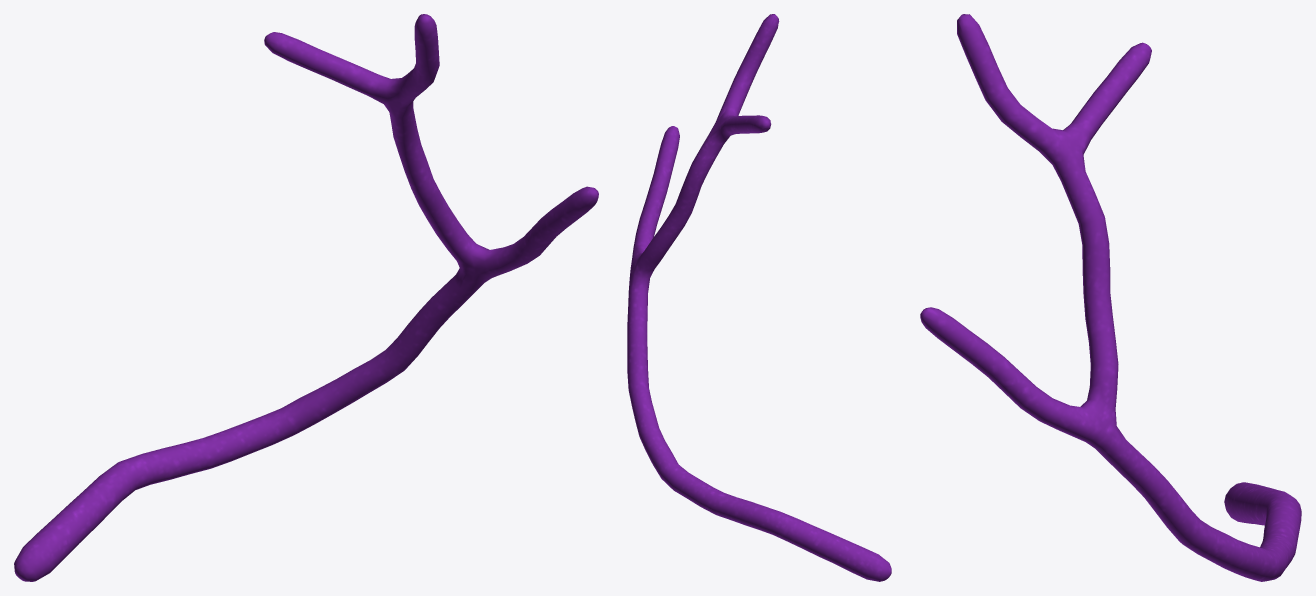
The model's file is CN IX - Glossopharyngeal Nerve.glb.
3 views of the same model, side by side, from view 1: azimuth 30°, elevation 25°; view 2: azimuth 150°, elevation 25°; view 3: azimuth 270°, elevation 25° (orthographic). The views are drawn at different scales.
Visible parts, largest first — view 1: CN IX - Glossopharyngeal Nerve.glb; view 2: CN IX - Glossopharyngeal Nerve.glb; view 3: CN IX - Glossopharyngeal Nerve.glb.
Boxes of the visible parts, bbox=[...] form: CN IX - Glossopharyngeal Nerve.glb: bbox=[14, 14, 598, 581]; CN IX - Glossopharyngeal Nerve.glb: bbox=[627, 14, 891, 581]; CN IX - Glossopharyngeal Nerve.glb: bbox=[920, 14, 1301, 581].
Bounding box in the file's own units: 0.0568 × 0.0731 × 0.0392.
1 material, 1 textured.
